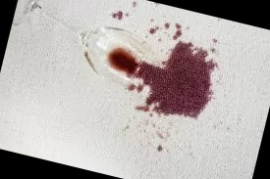wine: (100, 38, 219, 126), (168, 41, 215, 72), (167, 19, 189, 47), (142, 17, 164, 41), (107, 7, 126, 22), (155, 142, 171, 157), (150, 125, 166, 140), (130, 2, 139, 11)
